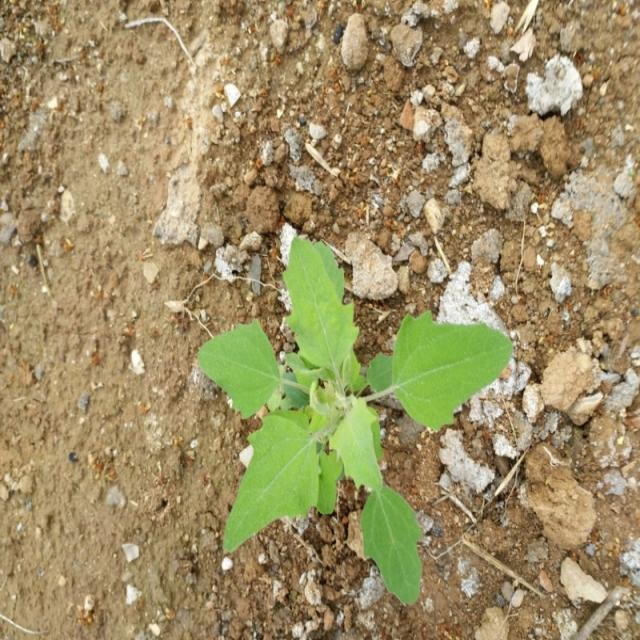ca: (192, 240, 517, 608)
